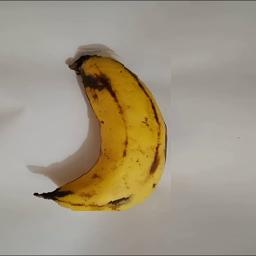Banana Semifresh: (36, 46, 171, 211)
